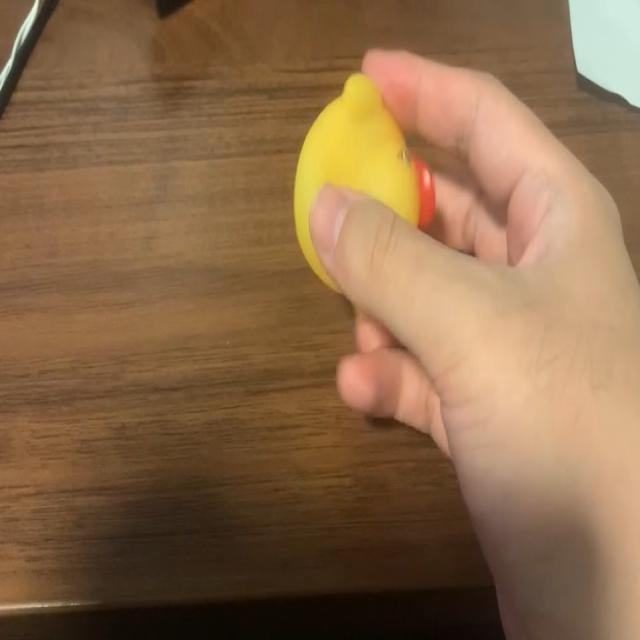rubber-duck: (293, 72, 433, 290)
